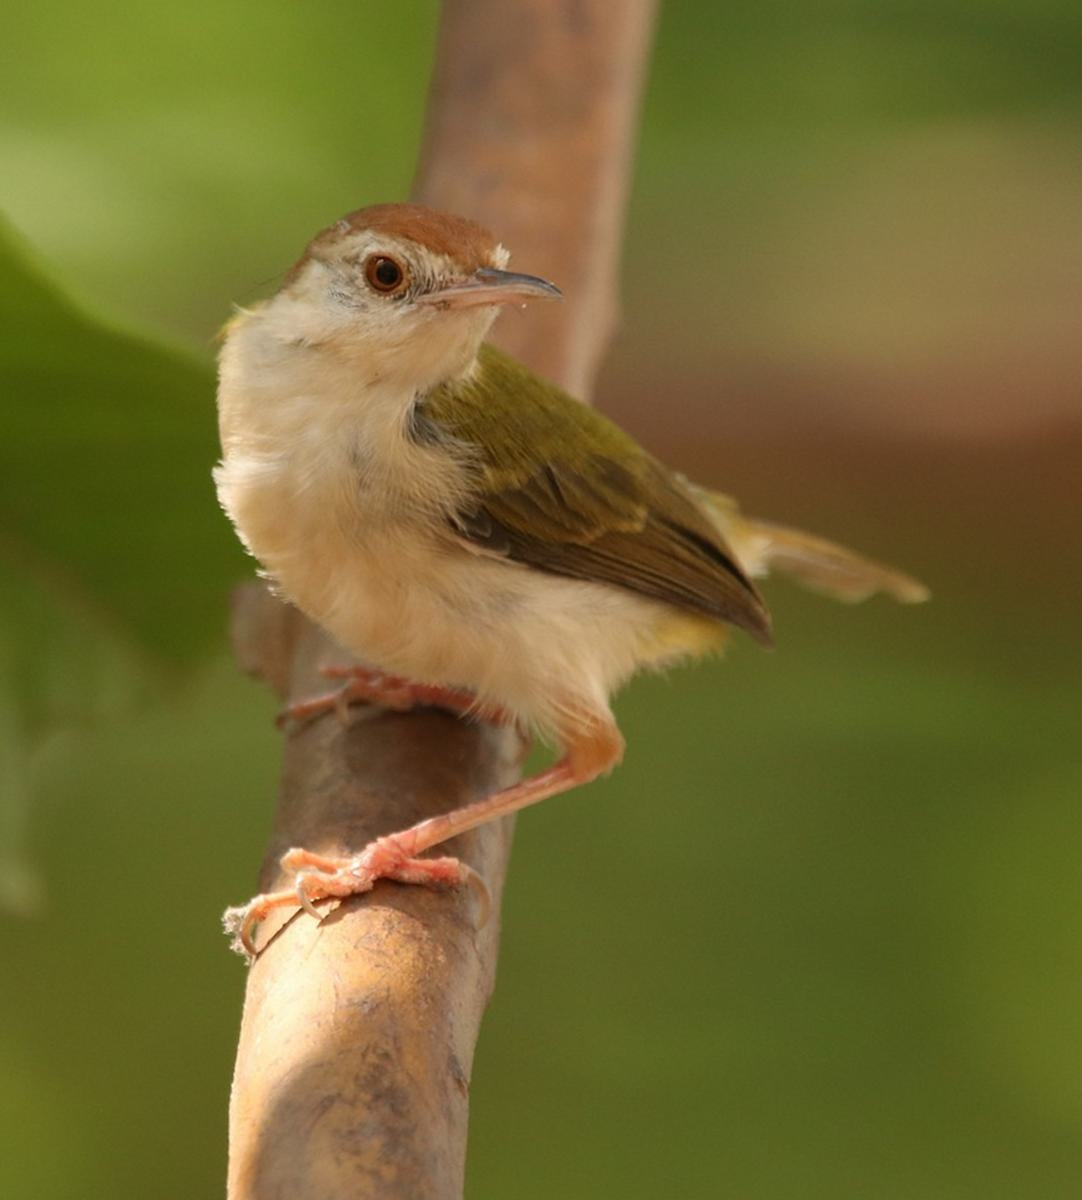tailorbird: (125, 152, 948, 904)
